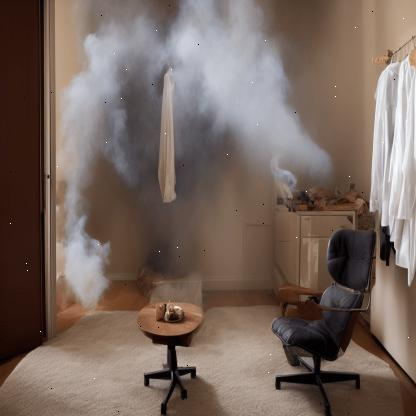smoke: (53, 3, 340, 328)
